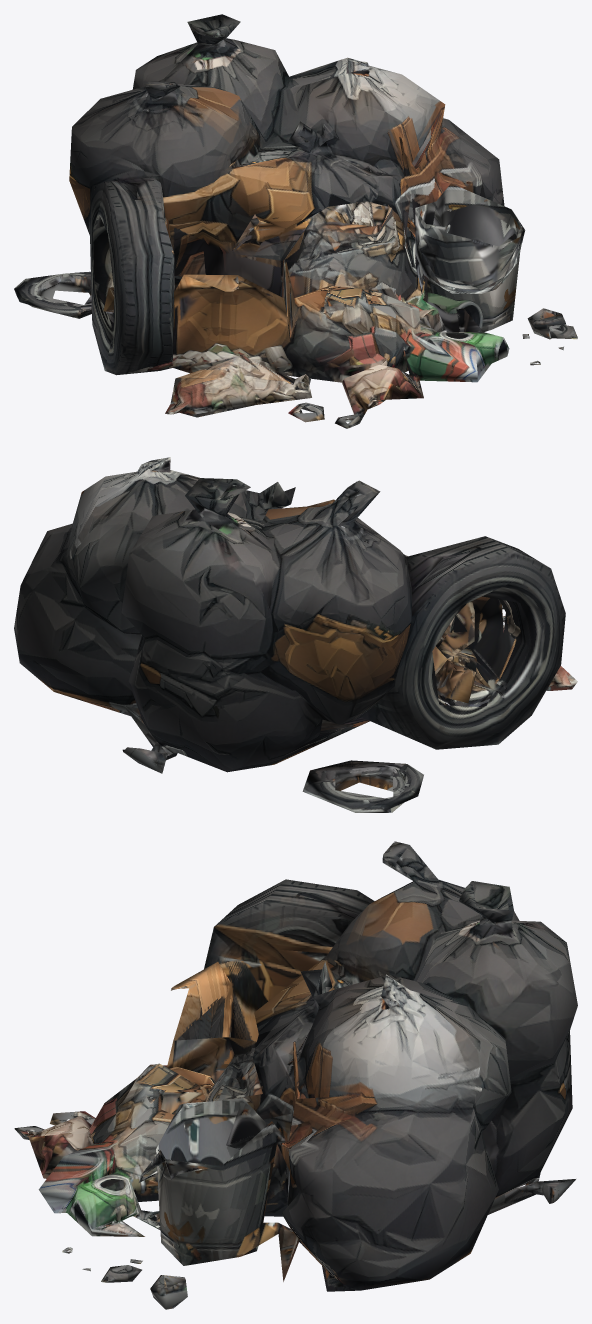
File: Loot_TrashPile_Open.fbx
3 views of the same model, one above another, from view 1: azimuth 30°, elevation 25°; view 2: azimuth 150°, elevation 25°; view 3: azimuth 270°, elevation 25° (orthographic). The views are drawn at different scales.
Visible parts, largest first — view 1: texture_mapping; view 2: texture_mapping; view 3: texture_mapping.
Part boxes in pixels (bbox=[...]): texture_mapping: bbox=[14, 14, 577, 428]; texture_mapping: bbox=[14, 457, 577, 812]; texture_mapping: bbox=[14, 841, 577, 1309].
Bounding box in the file's own units: 0.9903 × 0.9613 × 0.562.
Materials: 1 (1 with a texture image).
